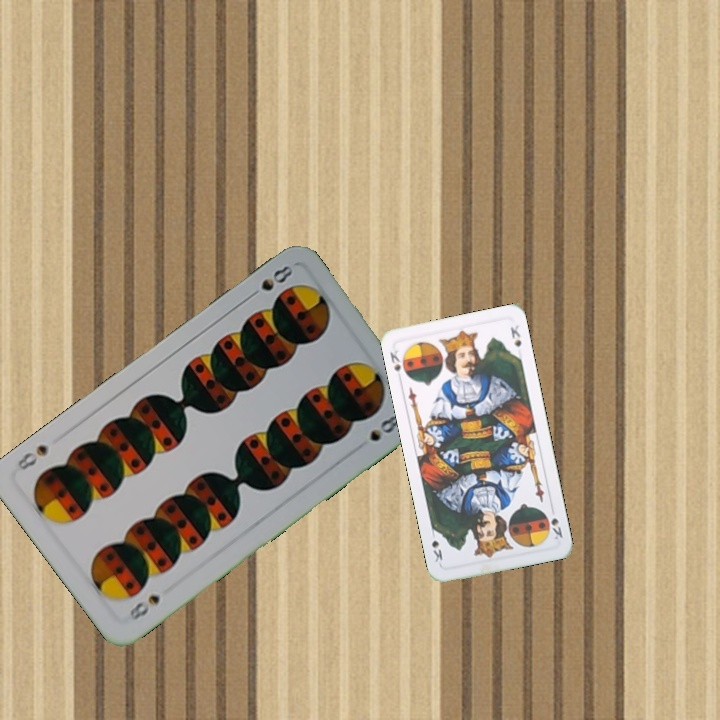S8: (243, 260, 296, 302), (125, 591, 163, 623)
SK: (547, 514, 565, 542), (386, 347, 403, 374)
